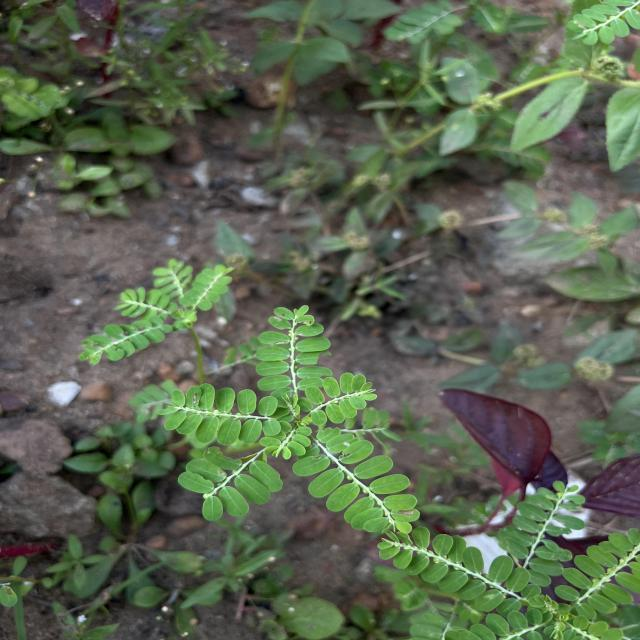Phyllanthus niruri: (291, 426, 424, 536), (372, 526, 542, 610), (168, 446, 286, 522), (498, 478, 580, 582), (551, 525, 640, 620), (156, 382, 282, 448), (256, 302, 334, 400), (296, 372, 380, 426)
